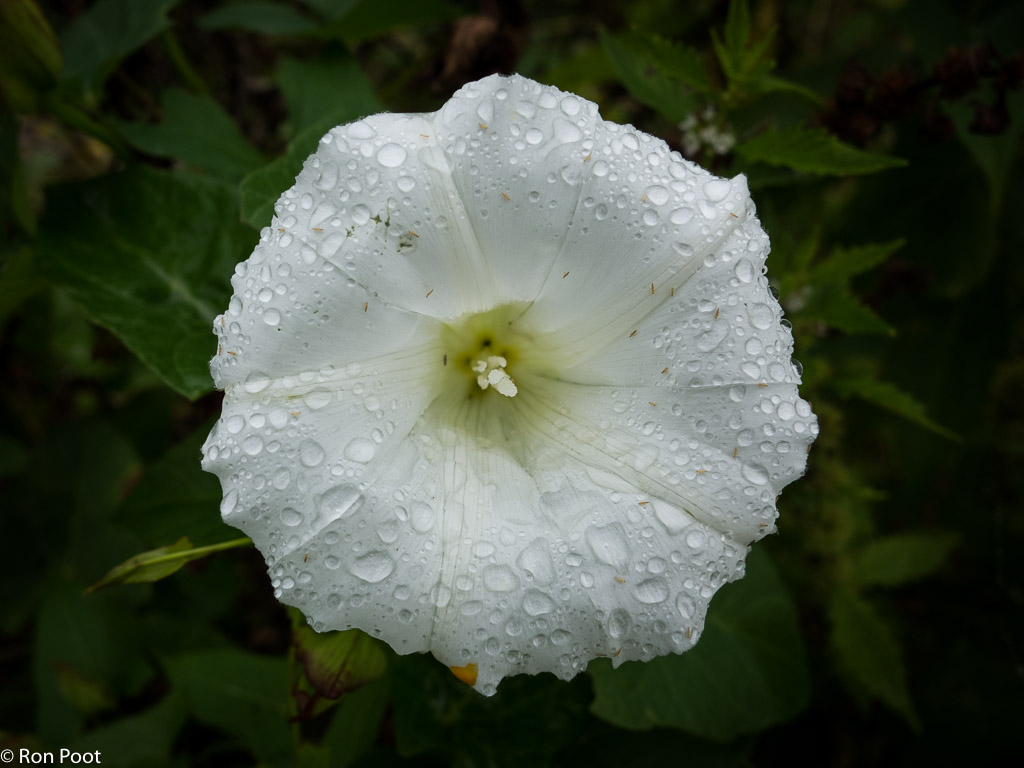haagwinde: (186, 50, 853, 713)
